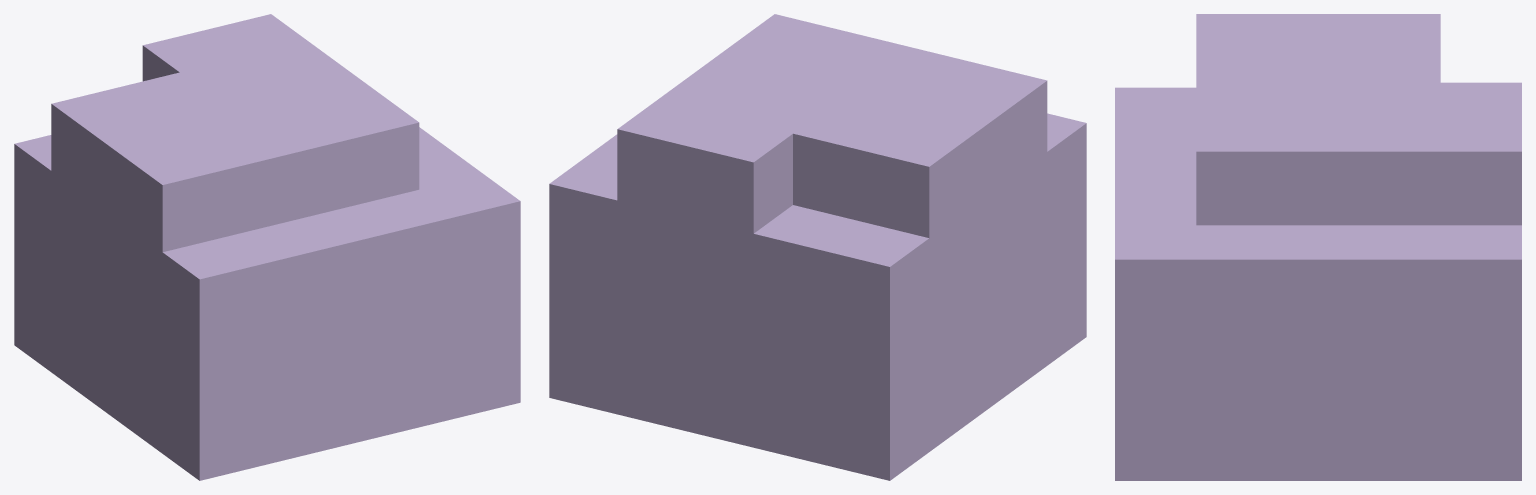
The model's file is Rock02.fbx.
3 renders of one model, left to right at view 1: azimuth 30°, elevation 25°; view 2: azimuth 150°, elevation 25°; view 3: azimuth 270°, elevation 25°, orthographic. The views are drawn at different scales.
Parts seen in each view (by area): view 1: rock; view 2: rock; view 3: rock.
Part boxes in pixels (x1=…): rock: x1=14, y1=14, x2=520, y2=480; rock: x1=549, y1=14, x2=1086, y2=480; rock: x1=1115, y1=14, x2=1521, y2=480.
Bounding box in the file's own units: 62.5 × 50 × 62.5.
